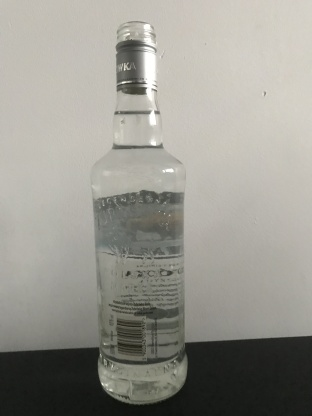nakretka: (113, 20, 158, 95)
